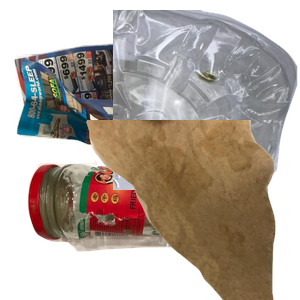glass: (25, 155, 227, 300)
paper: (12, 31, 196, 204)
plastic: (113, 10, 300, 190)
trash: (84, 120, 300, 300)
